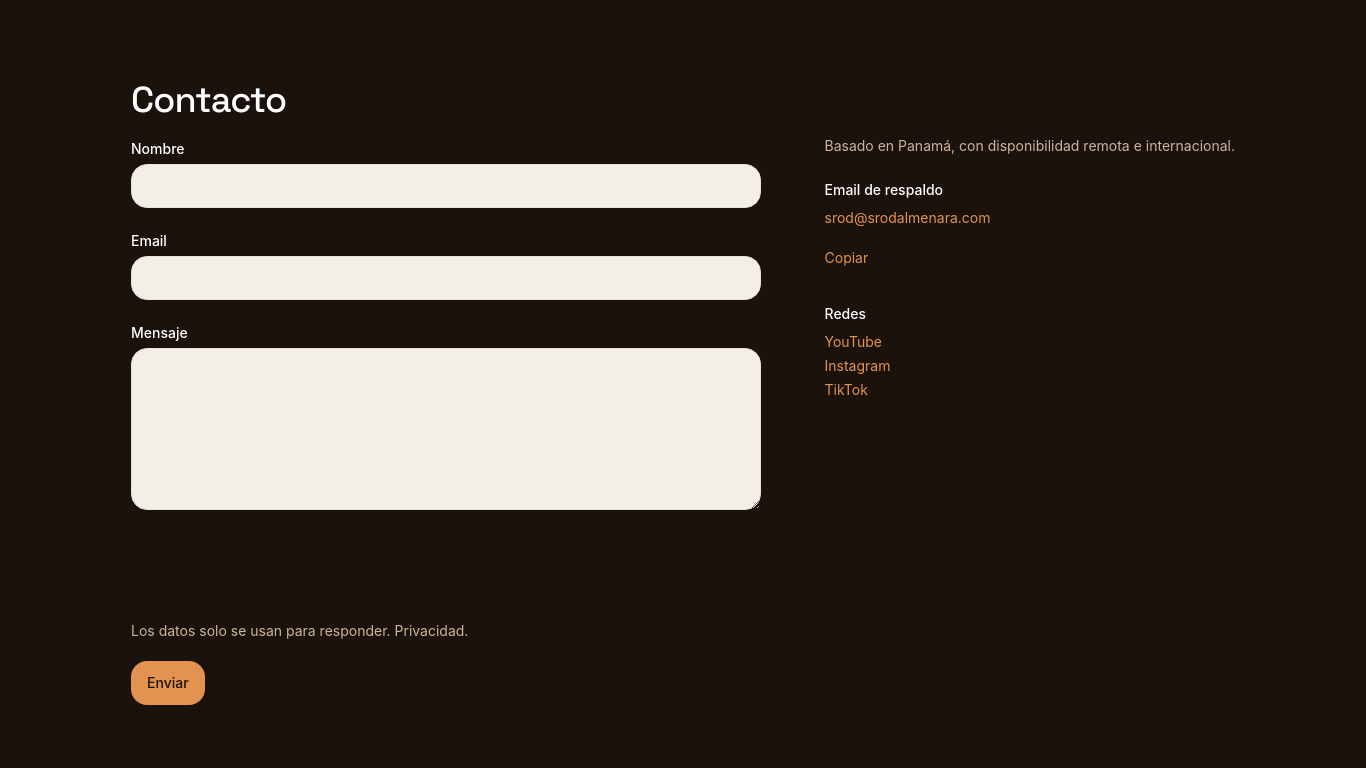
it: página /contacto › tras un envío exitoso mantiene el email de respaldo
This screenshot has width=1366, height=768.
Type "Ada" into the field labelled "Nombre" at x=446, y=186, box x1=131 y1=164 x2=760 y2=208
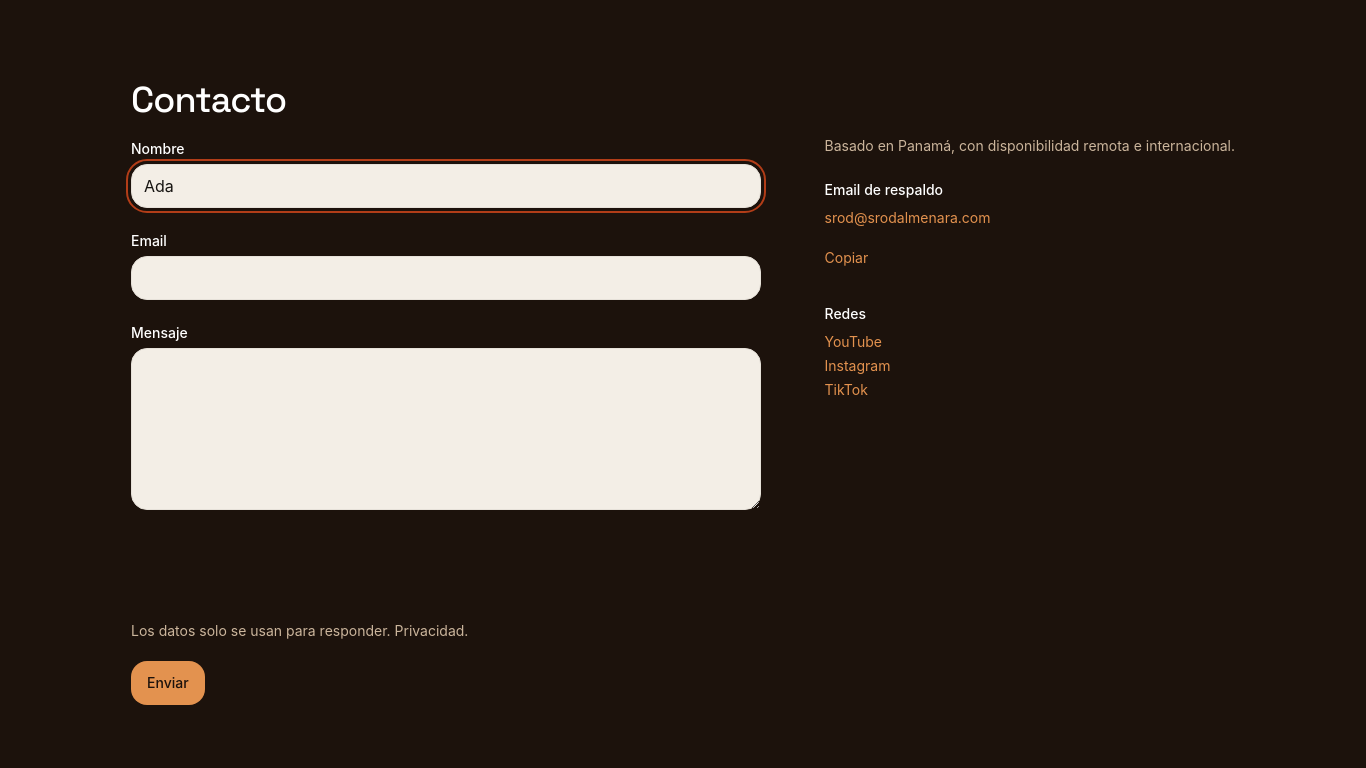
Type "ada@example.com" into the field labelled "Email" at x=446, y=278, box x1=131 y1=256 x2=760 y2=300
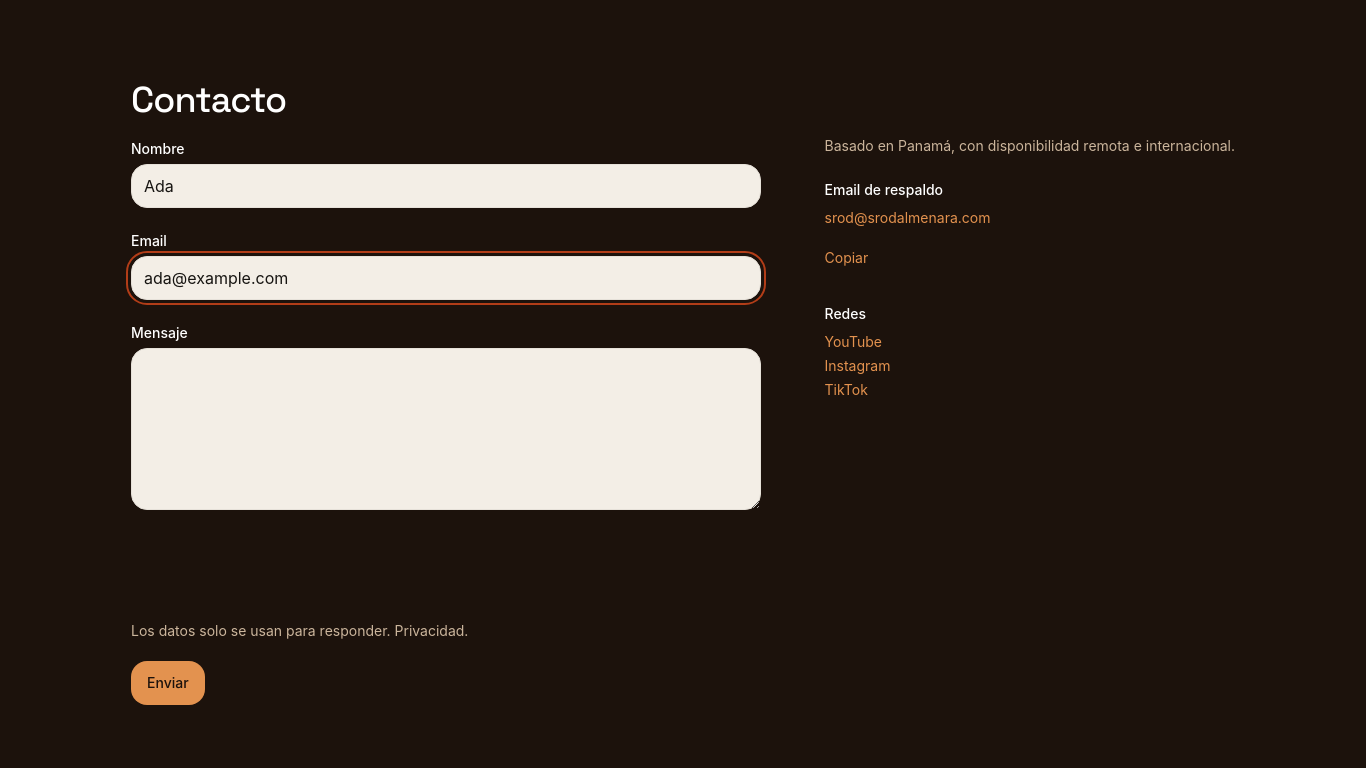
Type "Hay un brief." into the text box labelled "Mensaje" at x=446, y=429, box x1=131 y1=348 x2=760 y2=510
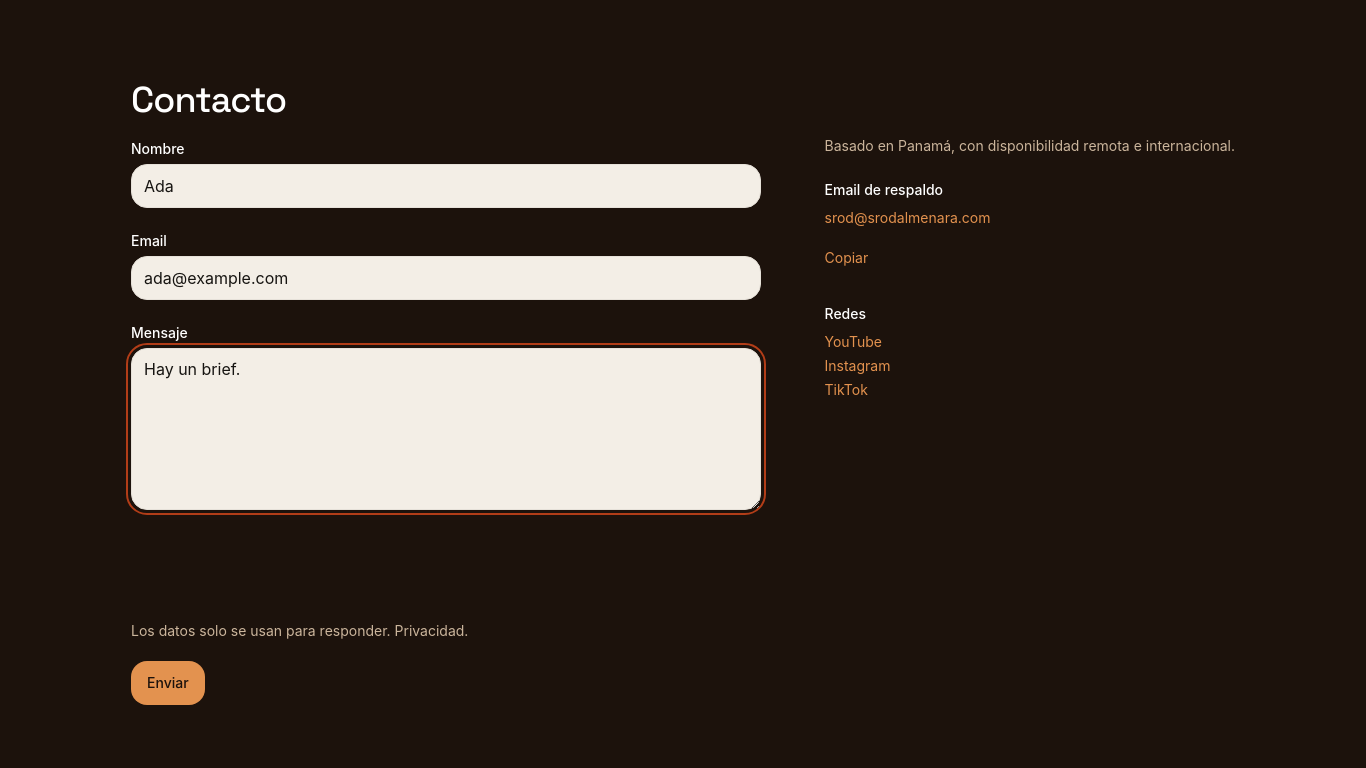
Click the button "Enviar" at x=168, y=683, box x1=131 y1=661 x2=205 y2=705
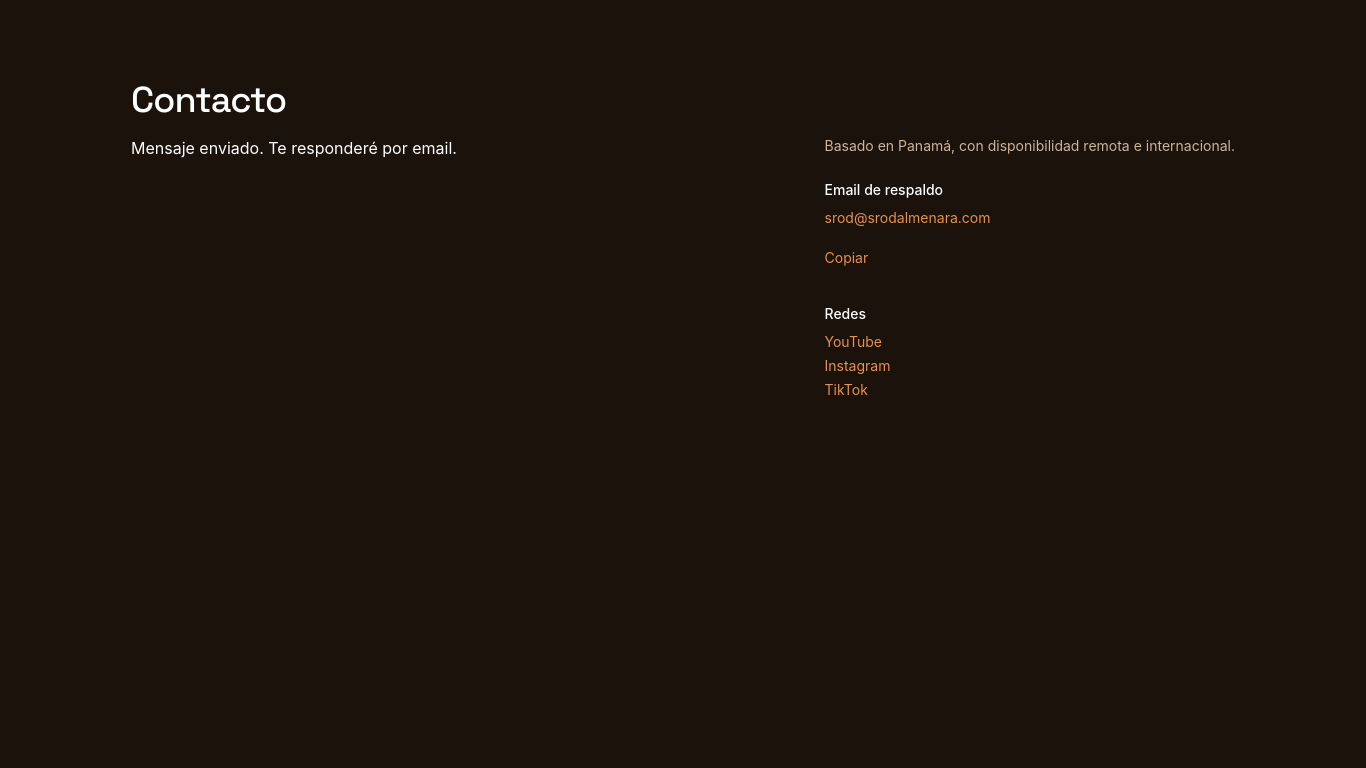
Expected: the link "srod@srodalmenara.com" is shown, x1=824 y1=209 x2=990 y2=226
Now the message shows "Mensaje enviado", box x1=131 y1=138 x2=457 y2=158
